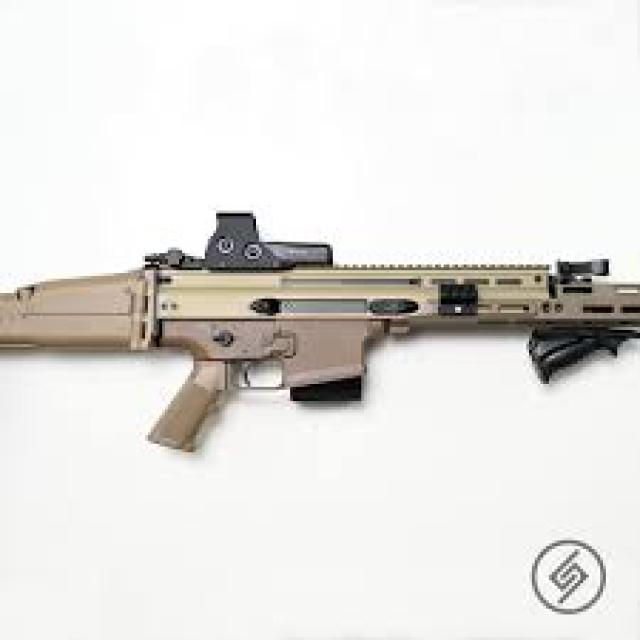Gun: (1, 206, 640, 458)
